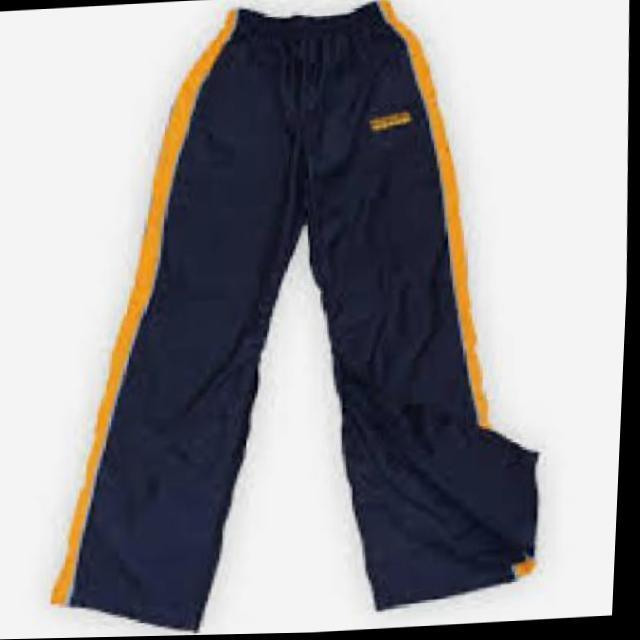pants: (48, 0, 542, 636)
